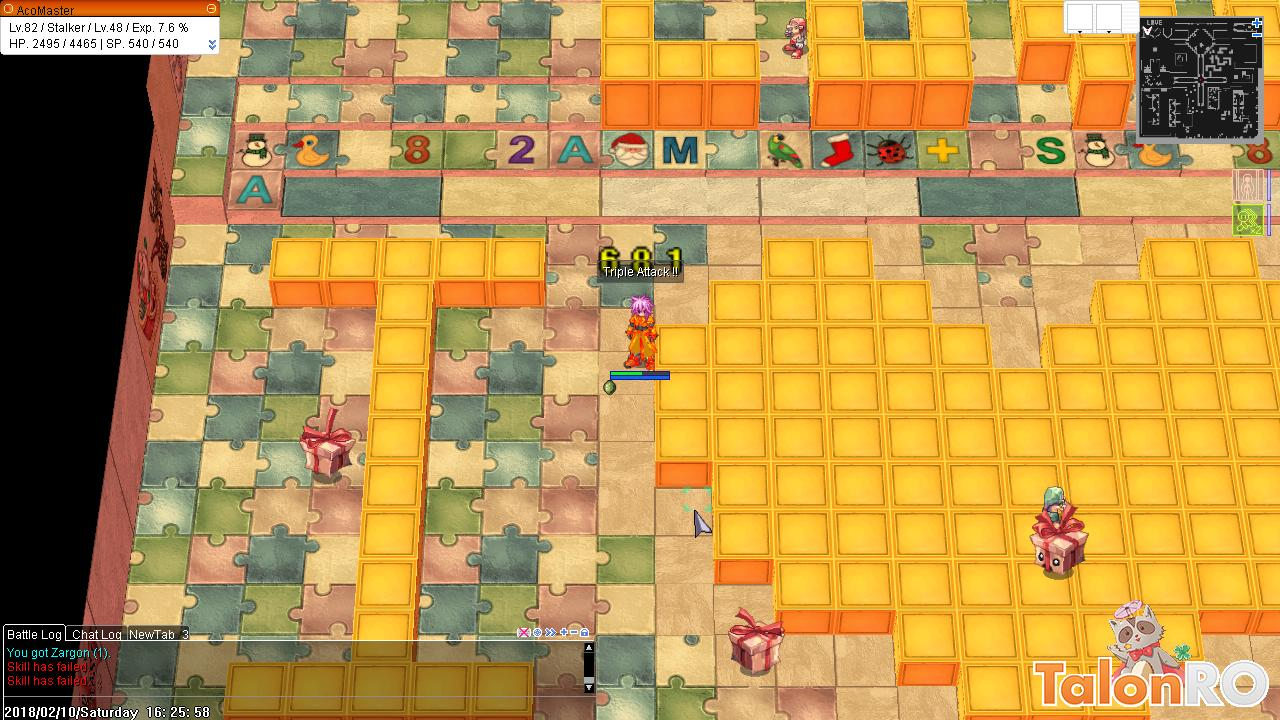loot: (598, 377, 620, 402)
myst_case: (293, 404, 359, 489), (1025, 504, 1092, 583), (719, 603, 789, 677)
